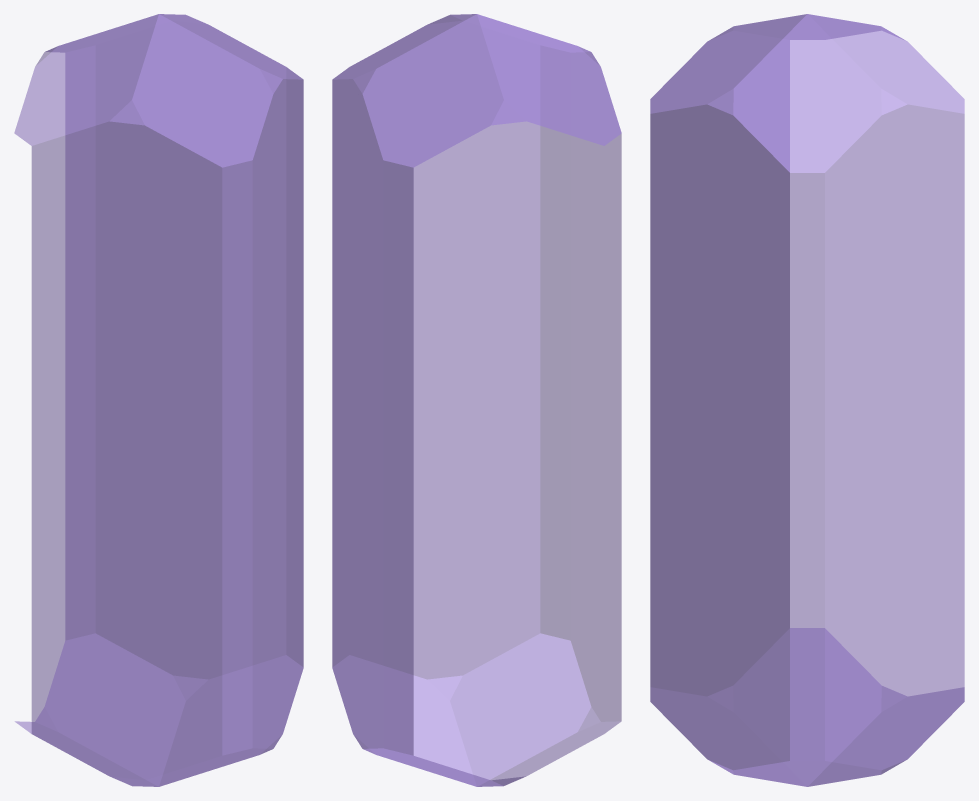
File: Gem_New_11.fbx
3 views of the same model, side by side, from view 1: azimuth 30°, elevation 25°; view 2: azimuth 150°, elevation 25°; view 3: azimuth 270°, elevation 25° (orthographic).
Visible parts, largest first — view 1: Model; view 2: Model; view 3: Model.
Part boxes in pixels (left/top/right/bottom): Model: left=14, top=14, right=303, bottom=786; Model: left=332, top=14, right=621, bottom=786; Model: left=650, top=14, right=964, bottom=786.
Size of the model in its own units: 167 by 453 by 167.
